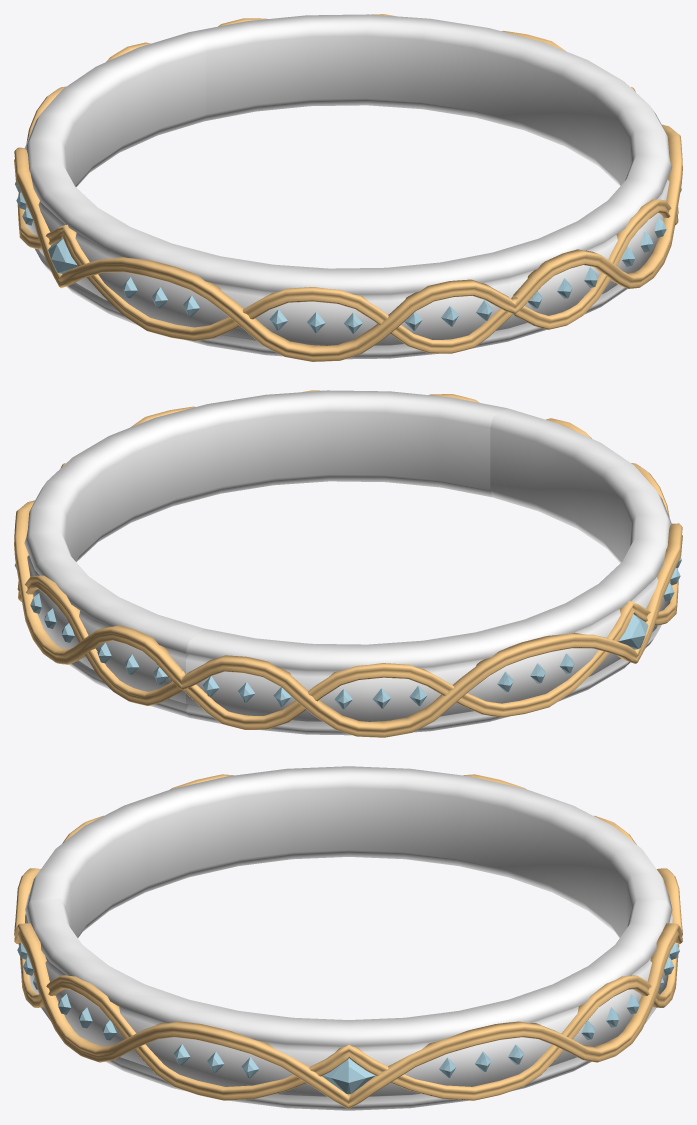
File: DetailedRing.fbx
3 renders of one model, top to bottom at view 1: azimuth 30°, elevation 25°; view 2: azimuth 150°, elevation 25°; view 3: azimuth 270°, elevation 25°, orthographic.
Parts seen in each view (by area): view 1: Ring; view 2: Ring; view 3: Ring.
Boxes of the visible parts, <box> form: Ring: <box>14,14,682,361</box>; Ring: <box>14,390,682,737</box>; Ring: <box>14,766,682,1110</box>.
Size of the model in its own units: 2.44 by 0.3161 by 2.39.
